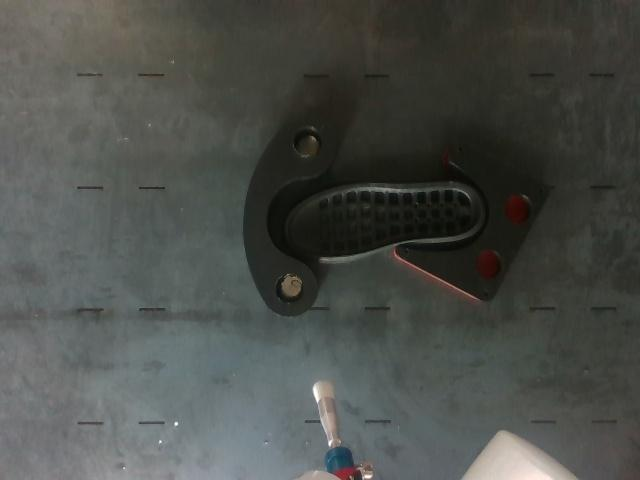shoes: (288, 187, 479, 257)
